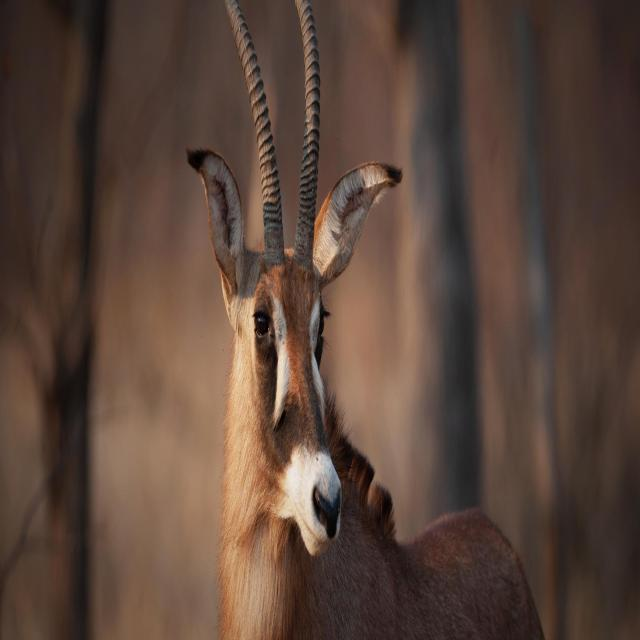Antelope: (181, 4, 545, 640)
